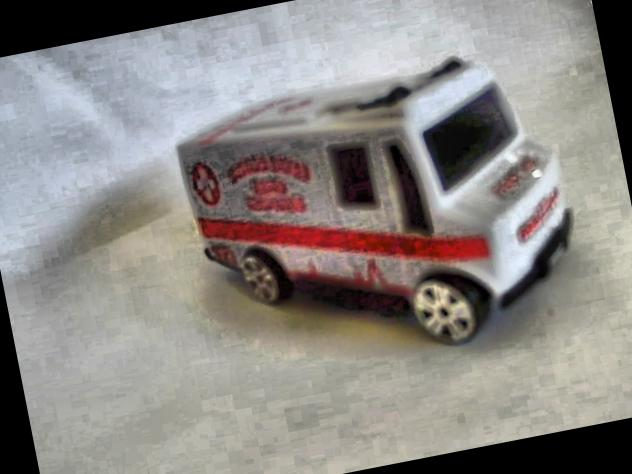ambulance: (168, 40, 592, 390)
